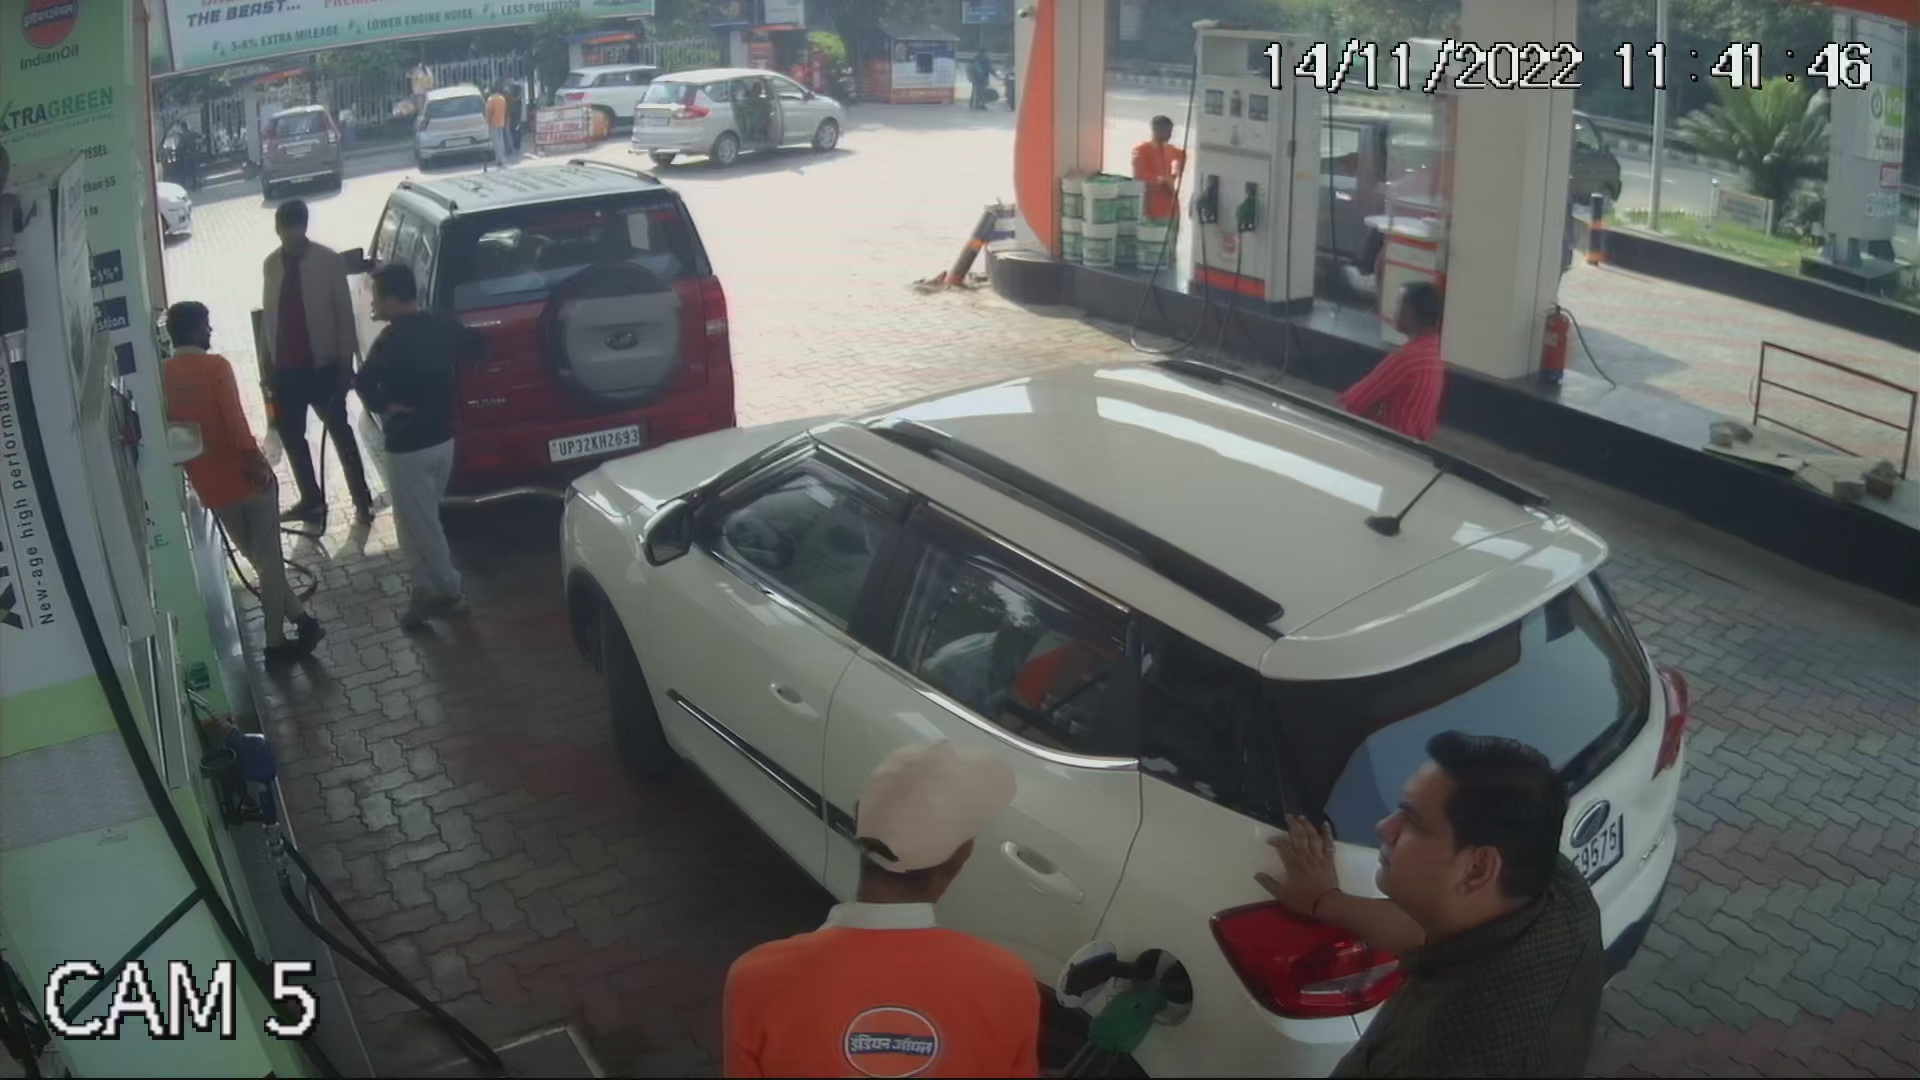Car: (551, 342, 1698, 1077), (338, 145, 756, 541), (612, 57, 853, 177), (541, 49, 698, 146), (247, 87, 359, 207), (405, 73, 522, 173), (1575, 102, 1622, 204), (154, 175, 198, 237)
Others: (727, 732, 1050, 1077), (152, 295, 323, 657), (1127, 107, 1182, 266)
